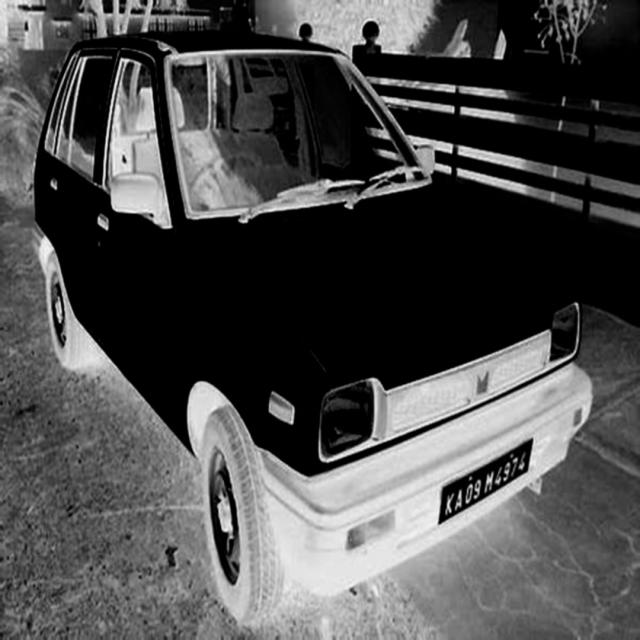Non_registered: (438, 438, 536, 532)
